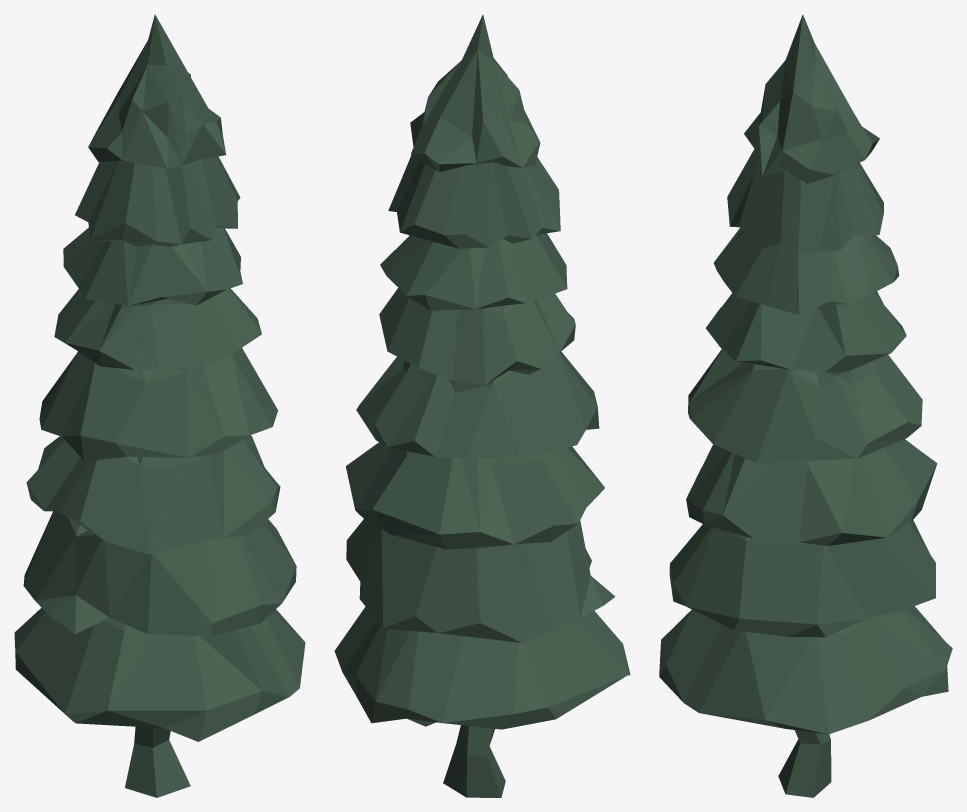
File: tree_2.glb
3 views of the same model, side by side, from view 1: azimuth 30°, elevation 25°; view 2: azimuth 150°, elevation 25°; view 3: azimuth 270°, elevation 25° (orthographic).
Visible parts, largest first — view 1: _2_tree; view 2: _2_tree; view 3: _2_tree.
Part boxes in pixels (left/top/right/bottom): _2_tree: left=14, top=14, right=305, bottom=797; _2_tree: left=334, top=14, right=630, bottom=797; _2_tree: left=659, top=14, right=952, bottom=797.
Size of the model in its own units: 0.8524 by 2.49 by 0.8631.
